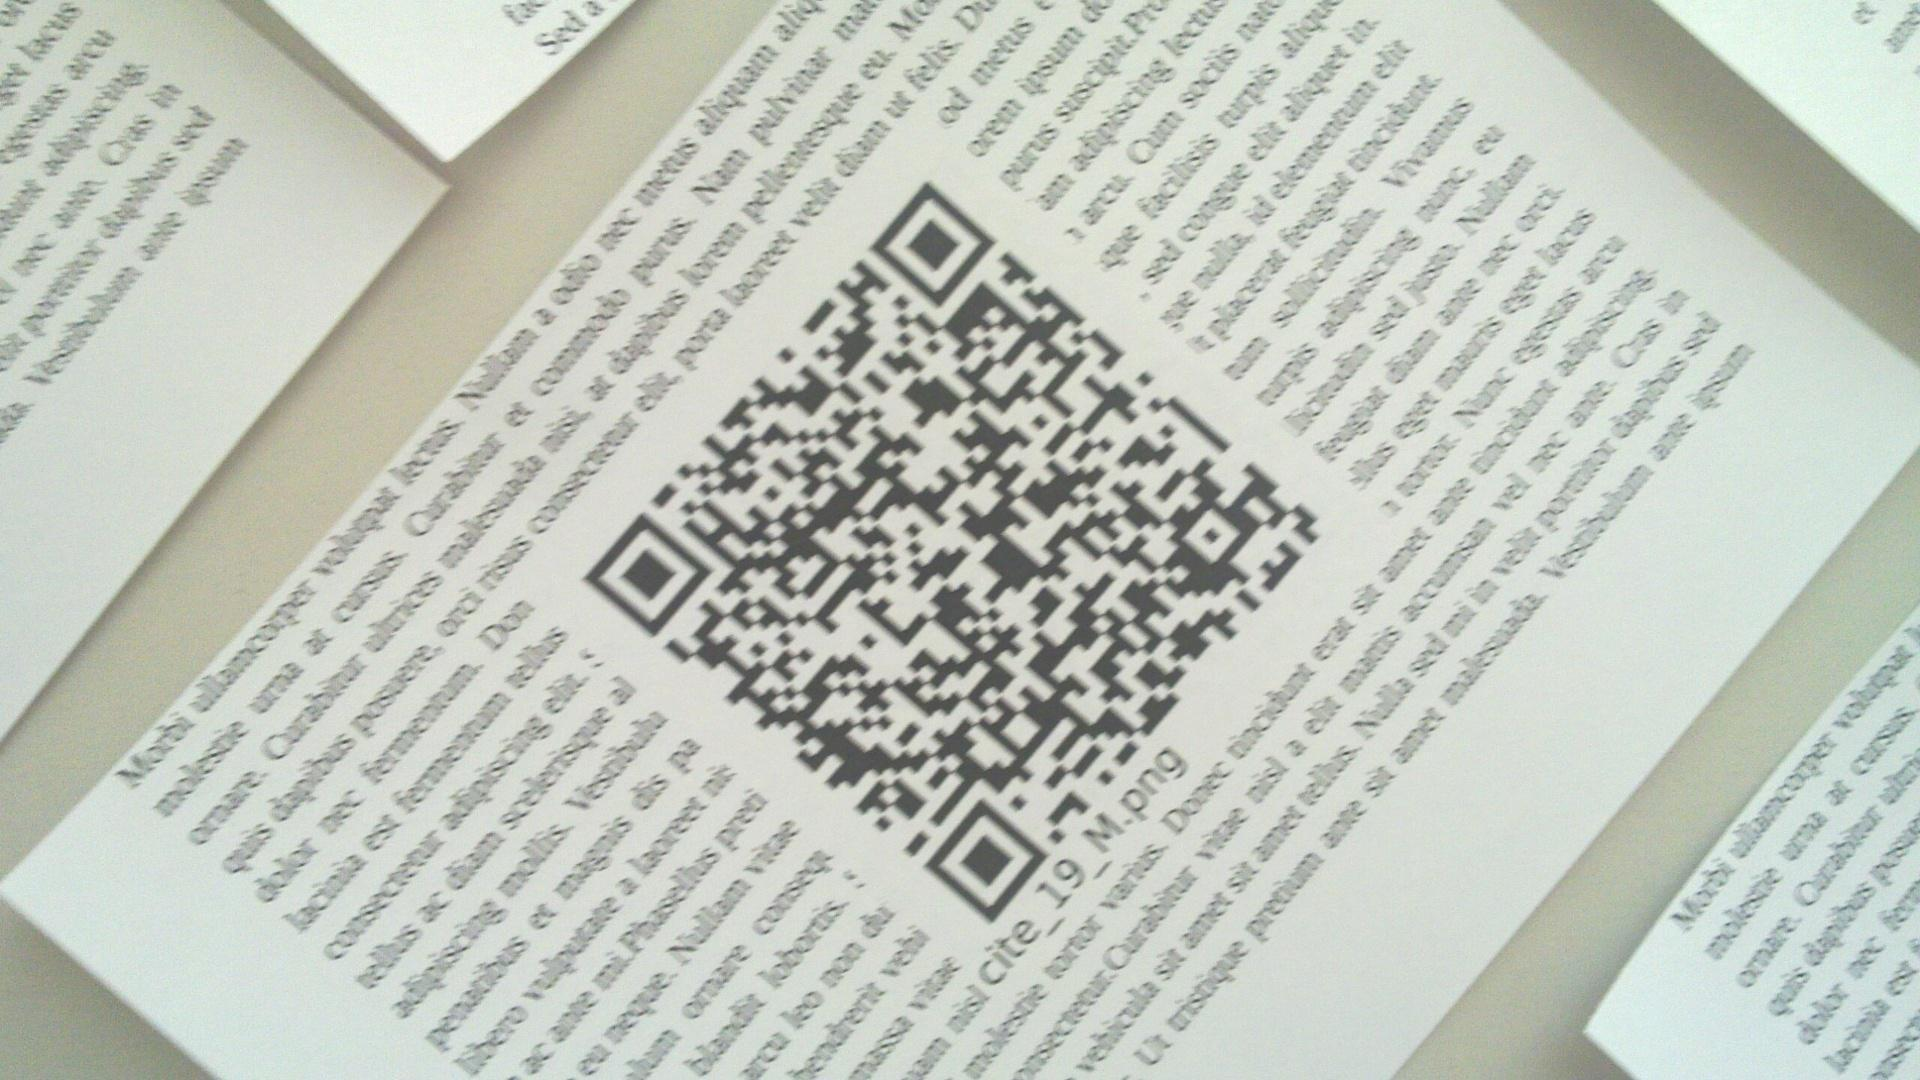qr_code: (583, 183, 1325, 923)
